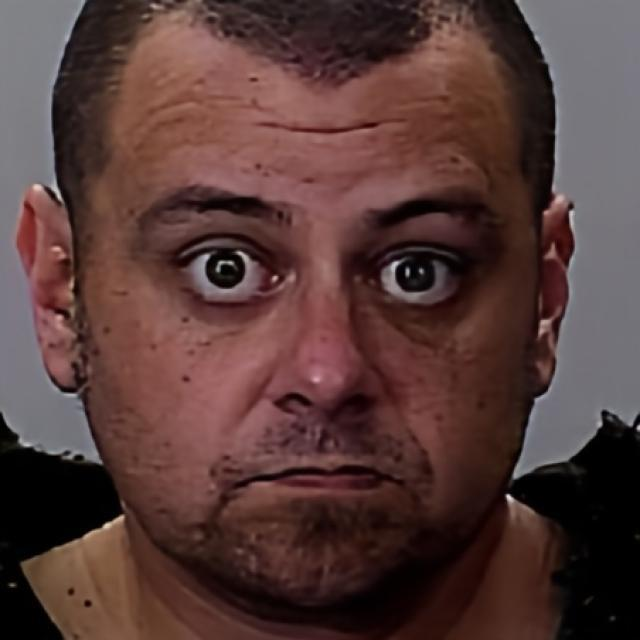surprise: (80, 0, 554, 613)
